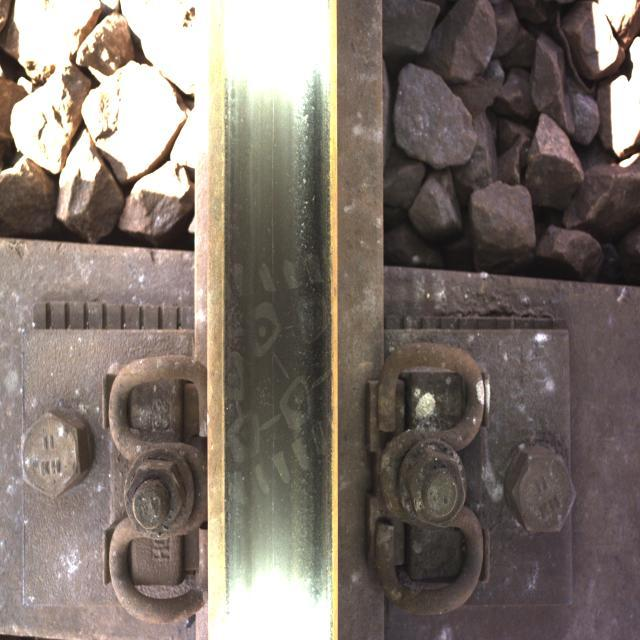normal: (221, 56, 314, 546)
